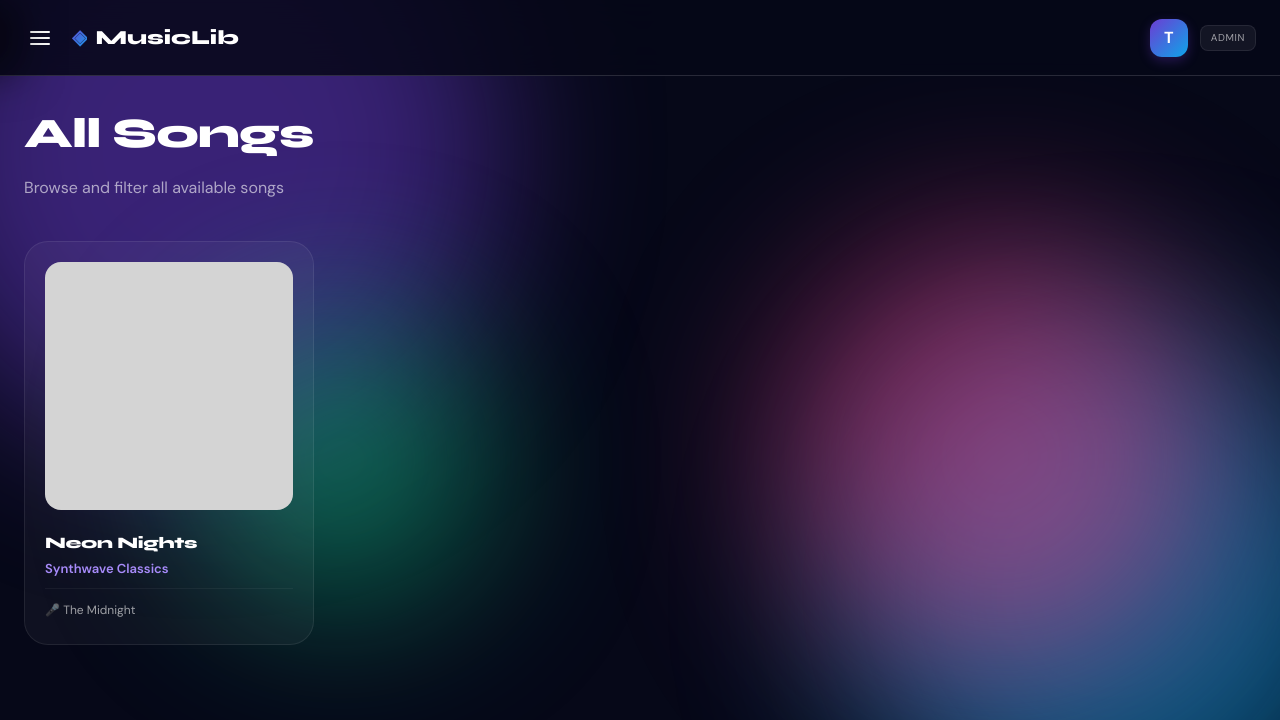
Test: Music Player Component › plays a song when clicked and controls render
Click the heading "Neon Nights": (121, 543) top-left (45, 533), bottom-right (197, 552)
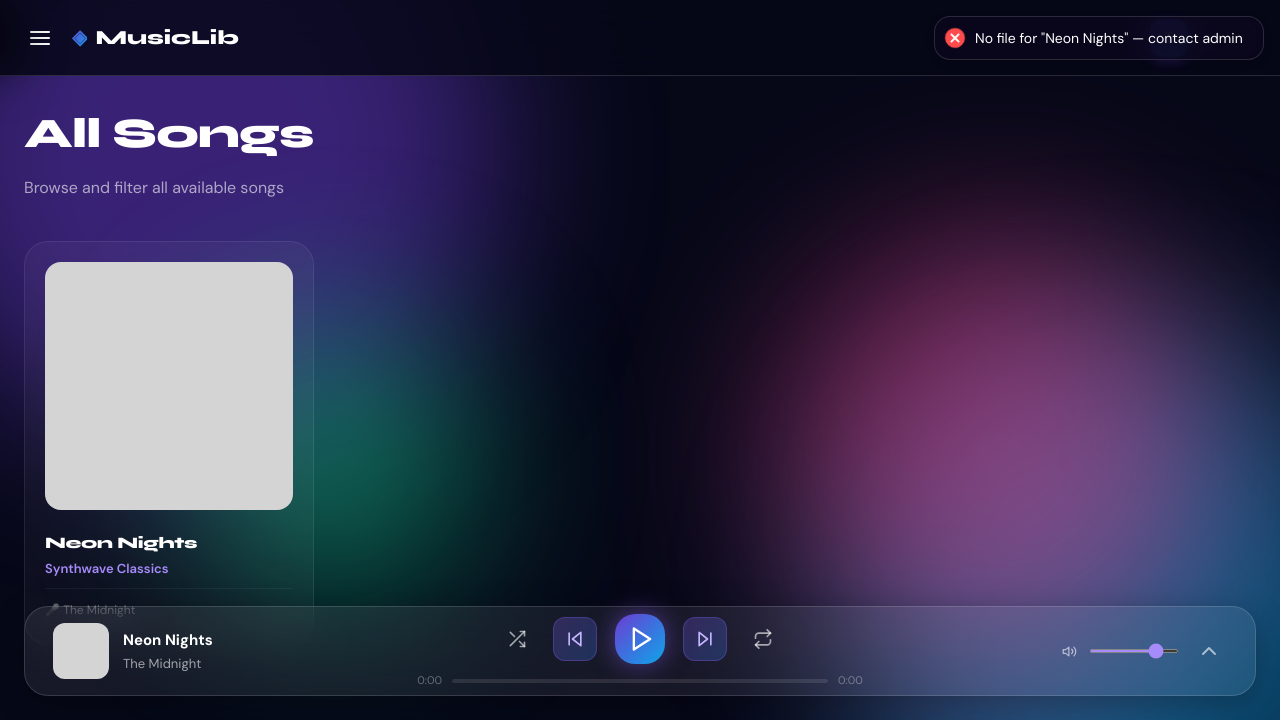
Expected: the element showing "Neon Nights The Midnight" is shown, top-left (53, 623), bottom-right (213, 679)
Expected: the text "Neon Nights" is shown, top-left (123, 628), bottom-right (213, 652)
Expected: the text "The Midnight" is shown, top-left (123, 654), bottom-right (213, 674)
